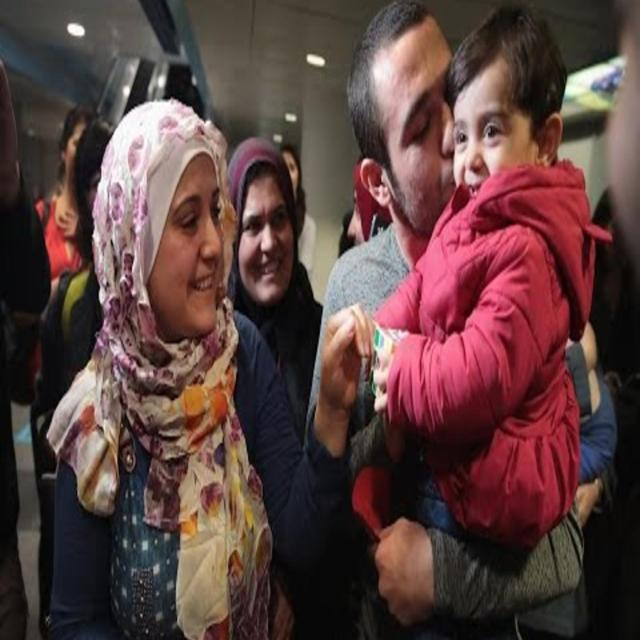body: (300, 0, 587, 639), (47, 92, 380, 639), (364, 0, 615, 639), (563, 0, 640, 630), (37, 115, 118, 640), (31, 102, 98, 636), (225, 134, 325, 453), (0, 55, 51, 640), (272, 106, 386, 266)
